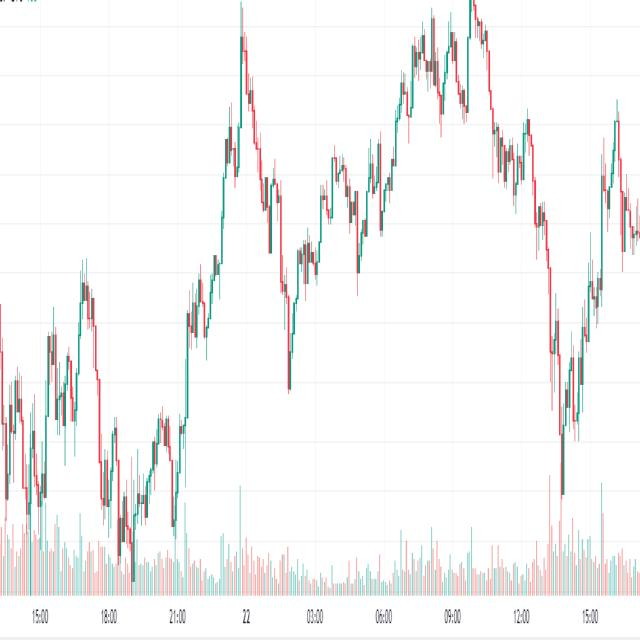Head-Shoulders: (214, 0, 286, 327)
Inverse-Head-Shoulders: (86, 292, 190, 590), (262, 153, 324, 414), (545, 275, 593, 495)
